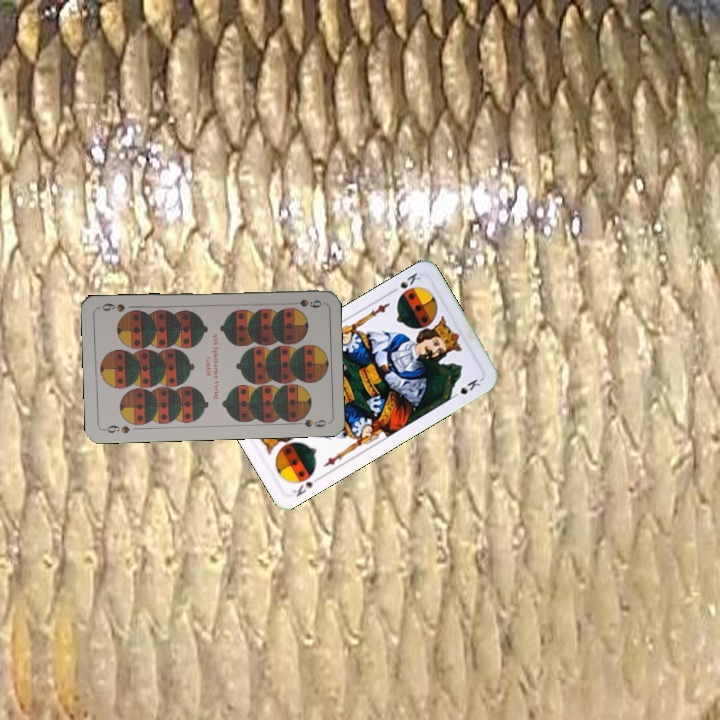S9: (284, 295, 325, 310), (99, 421, 133, 436)
SK: (386, 268, 423, 296), (289, 472, 323, 500)
